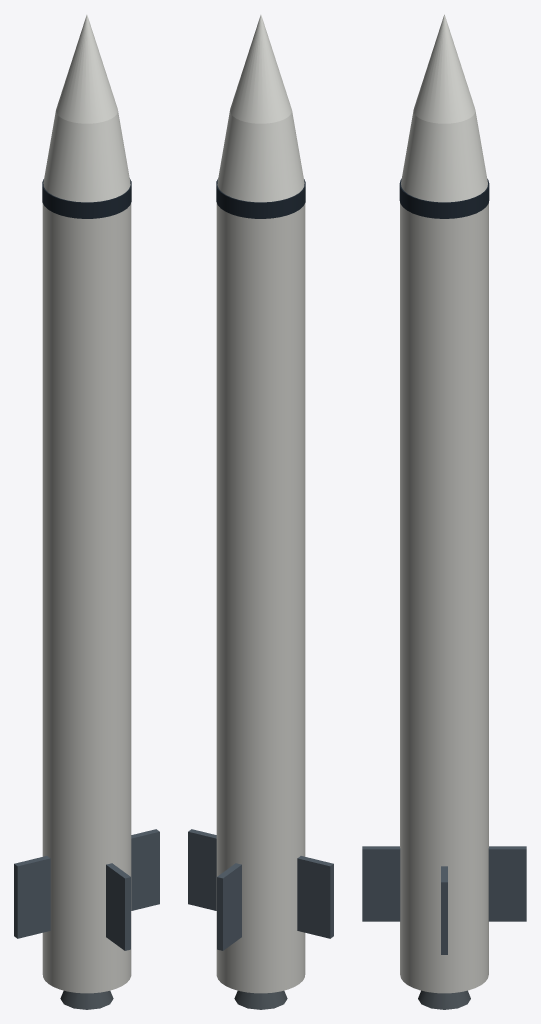
File: tomahawk.glb
3 views of the same model, side by side, from view 1: azimuth 30°, elevation 25°; view 2: azimuth 150°, elevation 25°; view 3: azimuth 270°, elevation 25° (orthographic).
Parts seen in each view (by area): view 1: body-0, fairing, nose, fin-2, fin-0, fin-1, interstage-0, engine-0-0; view 2: body-0, fairing, nose, fin-2, fin-0, fin-3, interstage-0, engine-0-0; view 3: body-0, fairing, nose, fin-1, fin-3, interstage-0, engine-0-0, fin-0.
Part boxes in pixels (left/top/right/bottom): body-0: left=42, top=203, right=131, bottom=993; fairing: left=43, top=111, right=130, bottom=202; nose: left=56, top=15, right=117, bottom=123; fin-2: left=14, top=856, right=50, bottom=938; fin-0: left=131, top=829, right=159, bottom=910; fin-1: left=106, top=863, right=130, bottom=950; interstage-0: left=42, top=178, right=131, bottom=218; engine-0-0: left=60, top=990, right=113, bottom=1009; body-0: left=216, top=203, right=305, bottom=993; fairing: left=217, top=111, right=304, bottom=202; nose: left=230, top=15, right=291, bottom=123; fin-2: left=297, top=856, right=333, bottom=938; fin-0: left=188, top=829, right=216, bottom=910; fin-3: left=217, top=863, right=241, bottom=950; interstage-0: left=216, top=178, right=305, bottom=218; engine-0-0: left=234, top=990, right=287, bottom=1009; body-0: left=400, top=203, right=488, bottom=993; fairing: left=401, top=111, right=487, bottom=202; nose: left=413, top=14, right=475, bottom=123; fin-1: left=362, top=846, right=400, bottom=921; fin-3: left=488, top=846, right=526, bottom=921; interstage-0: left=399, top=179, right=489, bottom=218; engine-0-0: left=418, top=990, right=470, bottom=1009; fin-0: left=441, top=866, right=447, bottom=954.
Size of the model in its own units: 0.962 by 6.37 by 0.962.
